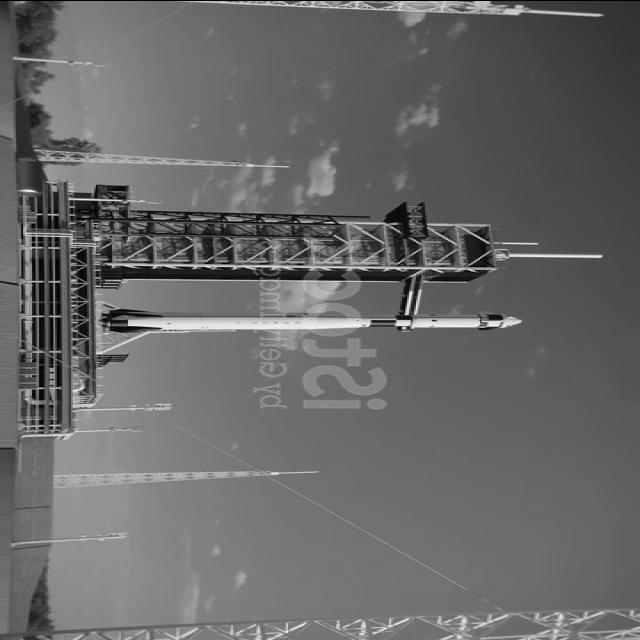missile: (114, 311, 536, 334)
